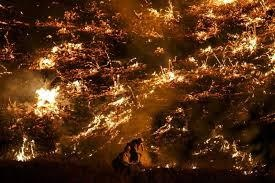fire: (13, 136, 36, 162)
